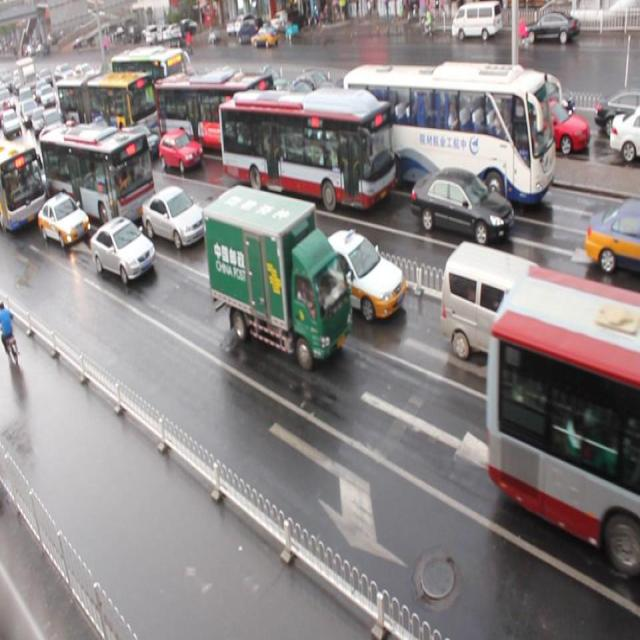bus: (204, 183, 349, 370)
car: (300, 228, 404, 321), (410, 166, 513, 245), (90, 215, 156, 283), (582, 196, 640, 272), (141, 185, 208, 250), (36, 187, 88, 243), (159, 128, 202, 172), (116, 123, 160, 164)
truck: (440, 240, 568, 386), (216, 186, 292, 276)
van: (487, 265, 640, 573), (341, 63, 555, 207), (217, 88, 394, 208), (38, 121, 156, 232), (154, 70, 274, 160), (58, 71, 158, 132), (1, 134, 46, 226)
